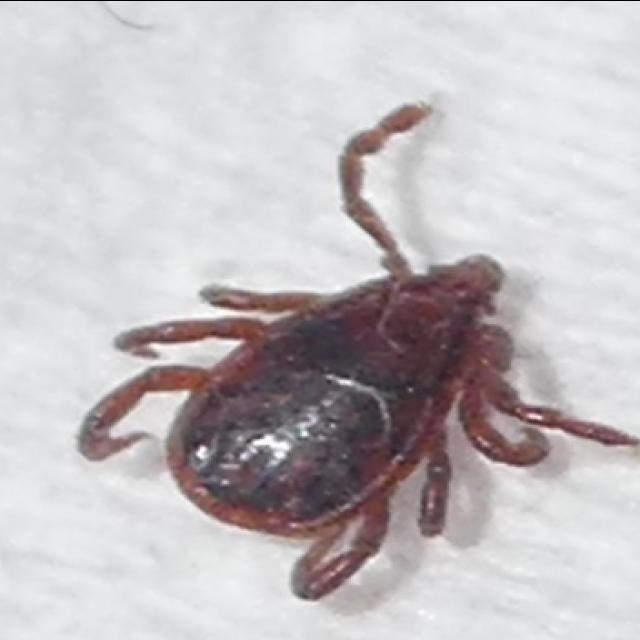Rhipicephalus Sanguineus-M: (73, 106, 638, 603)
